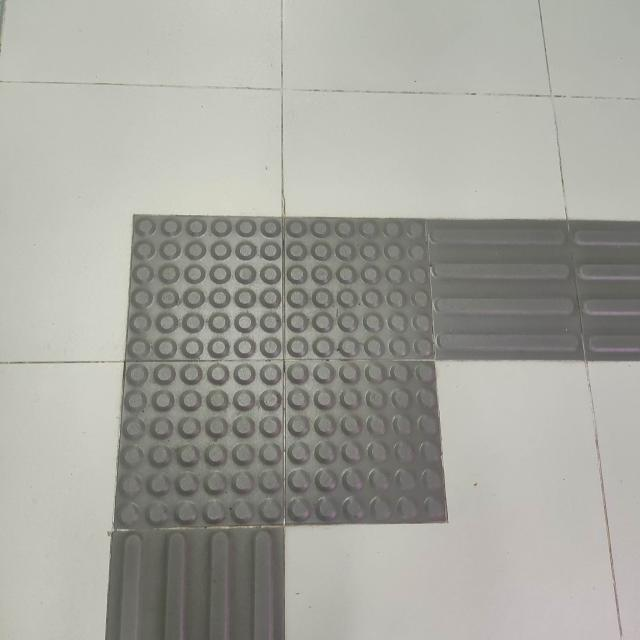kanan: (46, 155, 640, 610)
